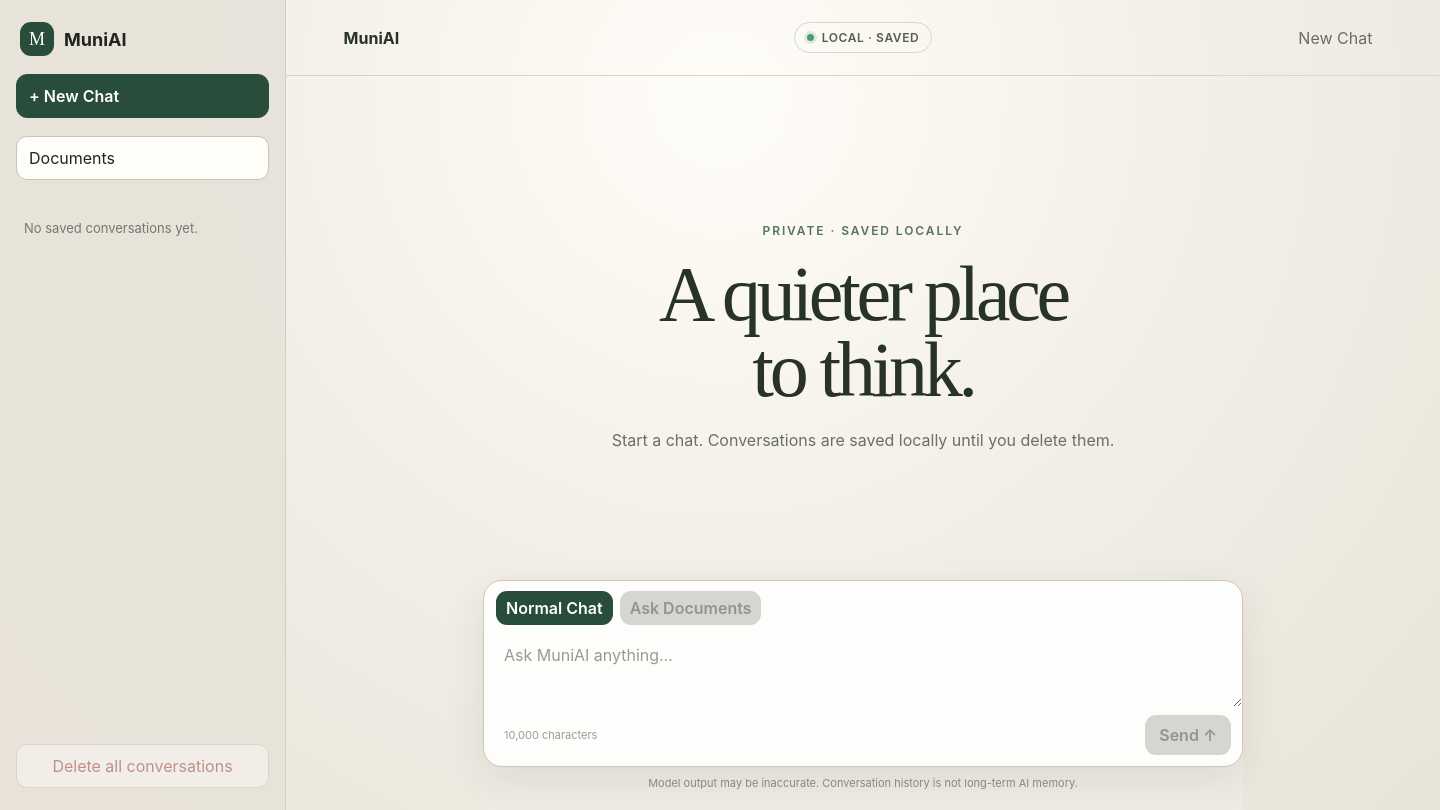
Test case: persistent conversation history › sends and safely displays stored messages
expect the text "No saved conversations yet." is shown: met, box [24,220,198,236]
Type "<b>hello</b>" into the text box named "Message MuniAI" at (863, 666), box [484,625,1242,707]
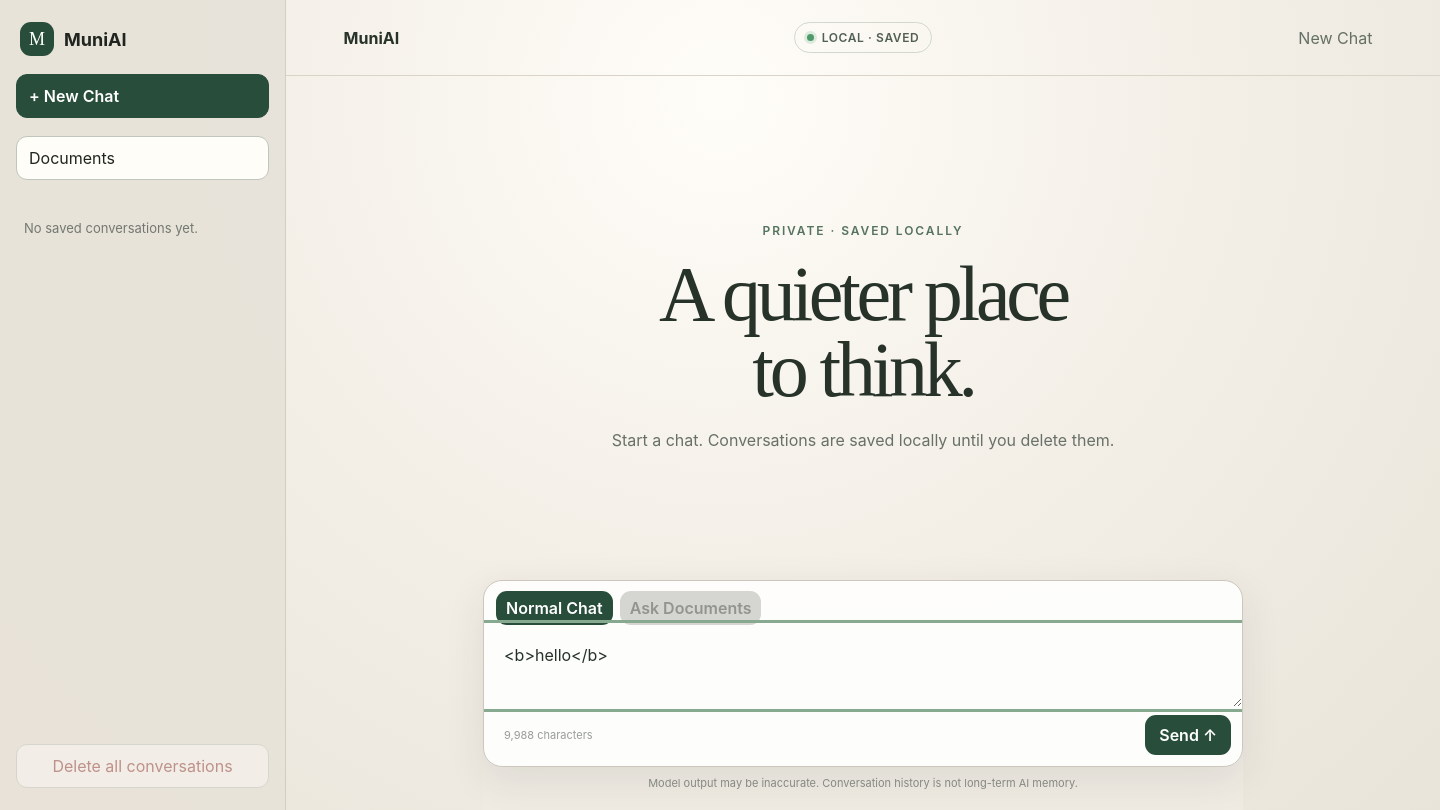
Click the button with aria-label "Send message" at (1188, 735), box [1145,715,1231,755]
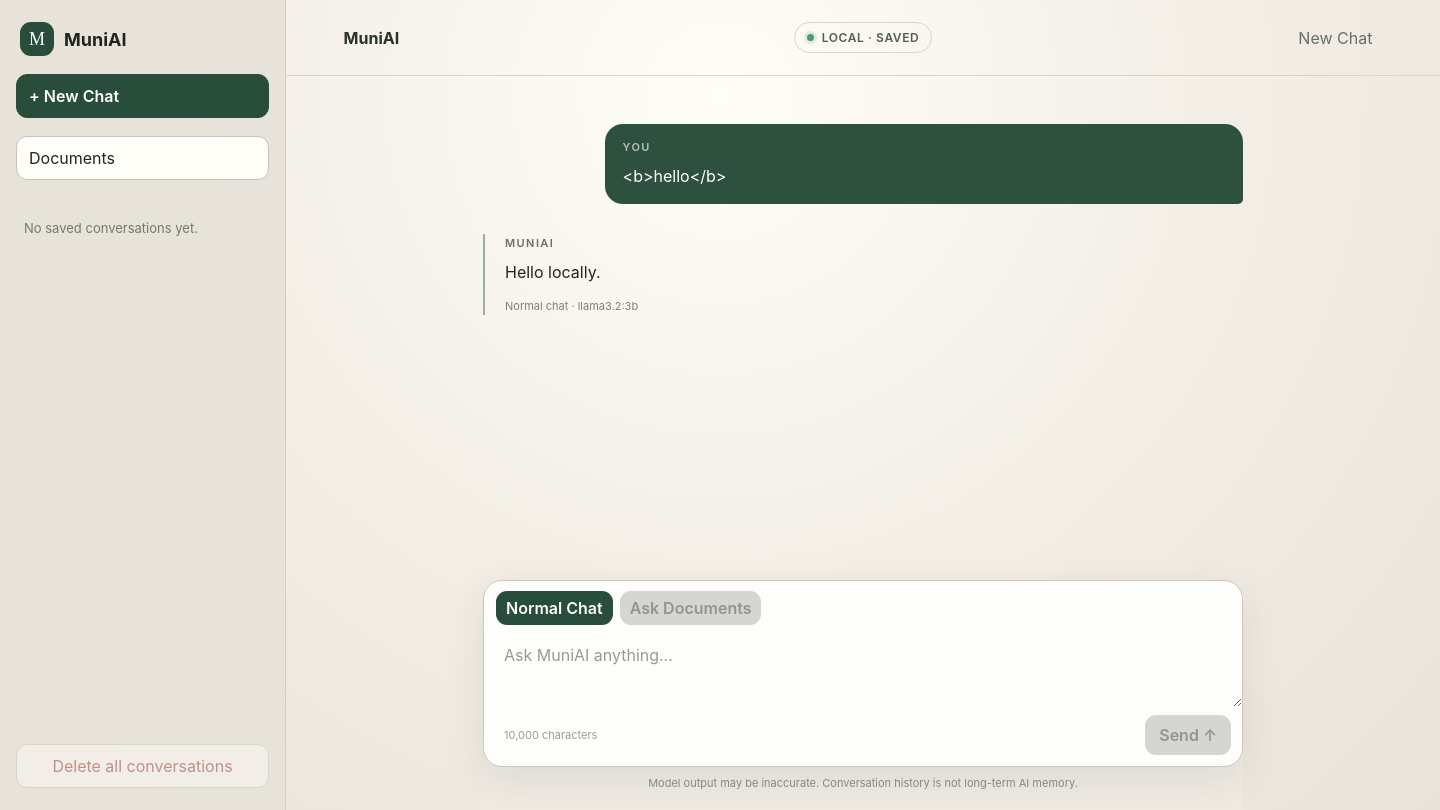
expect the text "Hello locally." is shown: met, box [505,262,600,282]
expect the text "<b>hello</b>" is shown: met, box [623,166,726,186]
